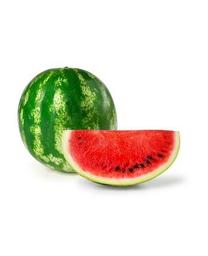watermelon: (18, 67, 120, 174), (60, 129, 182, 190)
